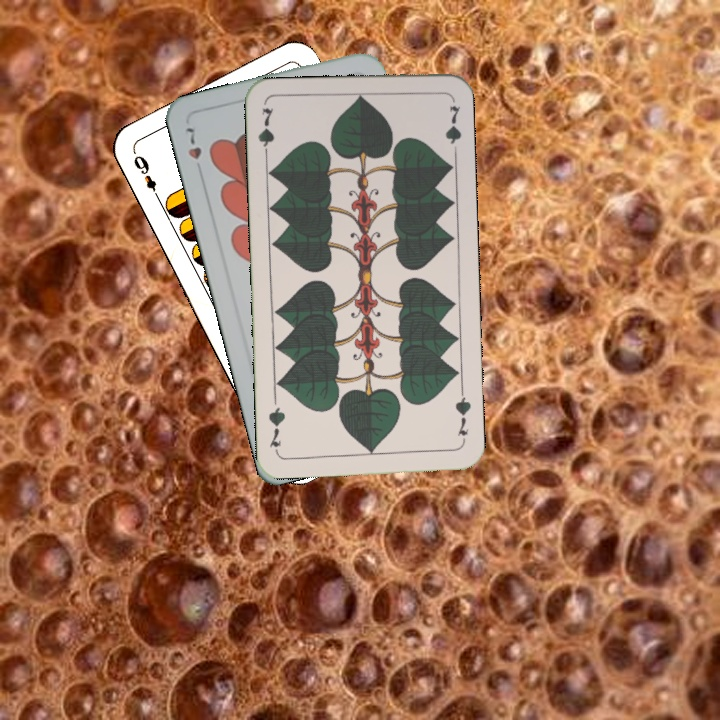E9: (129, 151, 163, 204)
G7: (254, 104, 277, 162), (451, 387, 474, 438)
H7: (181, 123, 206, 178)
